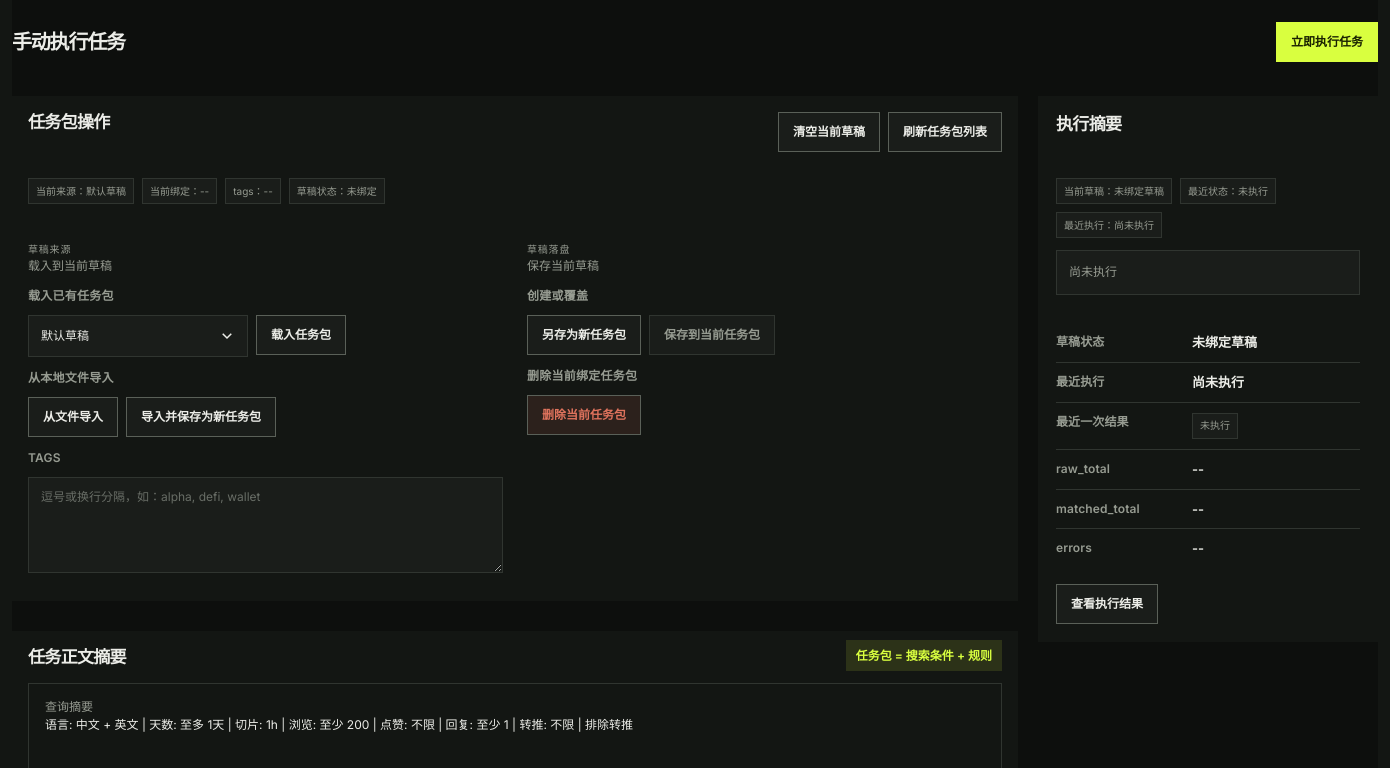
Test: ManualSearchPage › restores the blank draft when the default draft option is selected
Select "Alpha Watch" in the dropdown named "manual-pack-select" at (138, 336), box [28, 315, 248, 357]
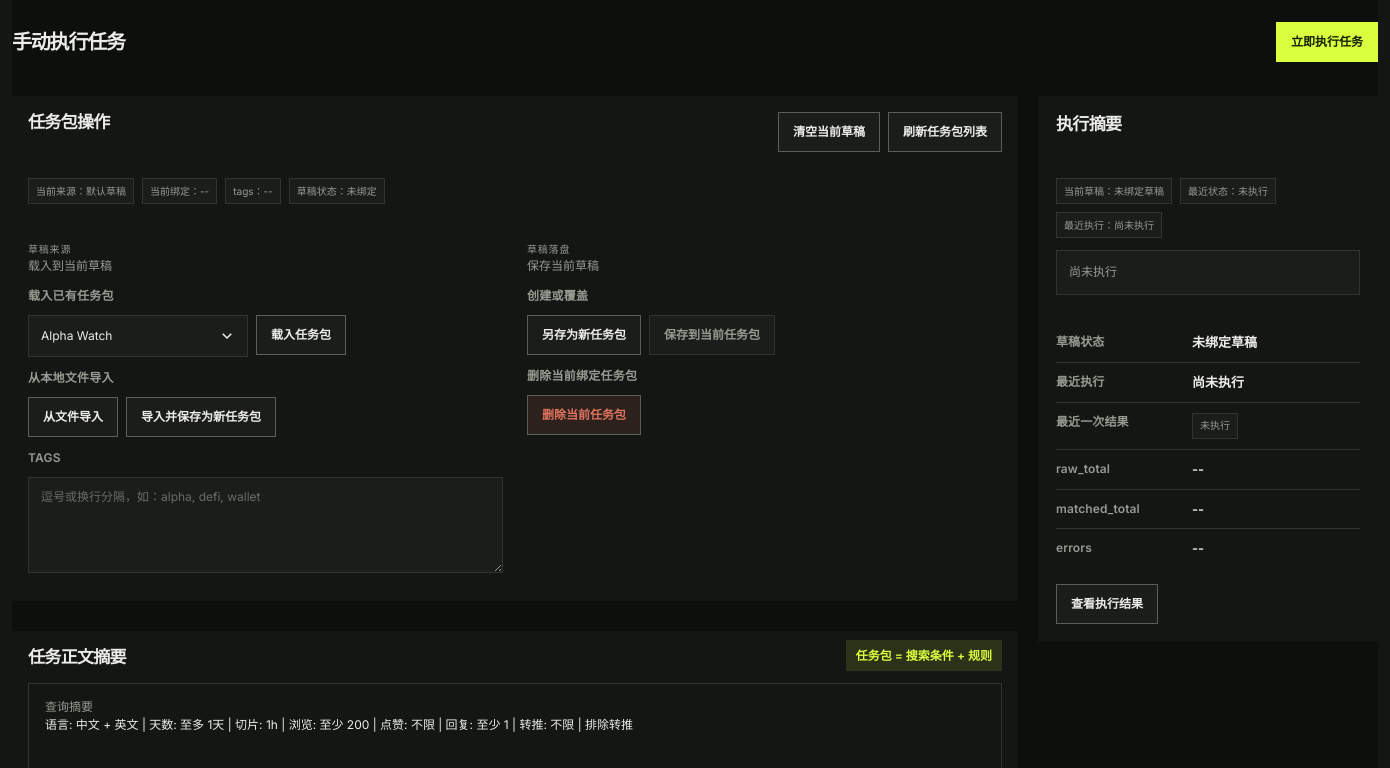
Click the button with test id "manual-load-pack" at (301, 335), box [256, 315, 346, 355]
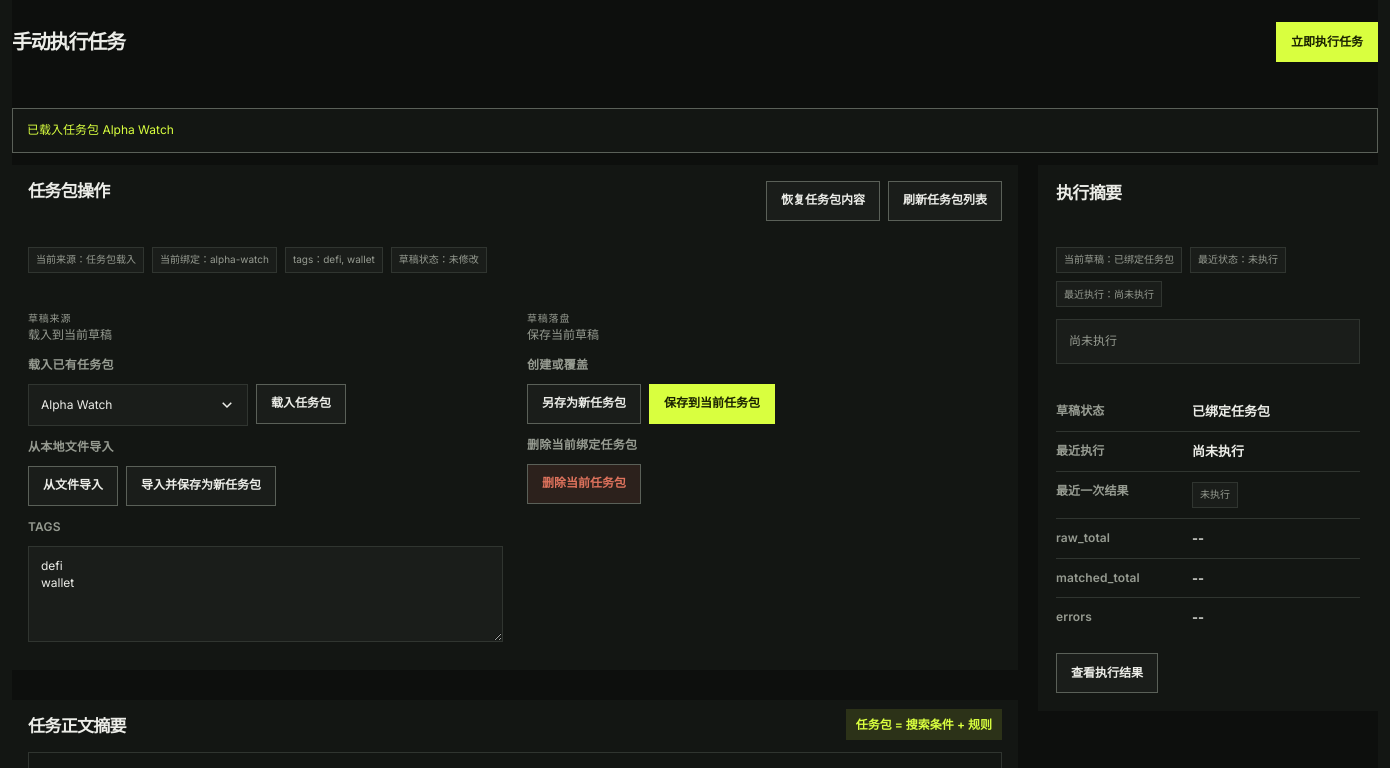
expect the text "当前绑定：alpha-watch" is shown: met, box [152, 247, 277, 273]
Select "默认草稿" in the dropdown named "manual-pack-select" at (138, 405), box [28, 384, 248, 426]
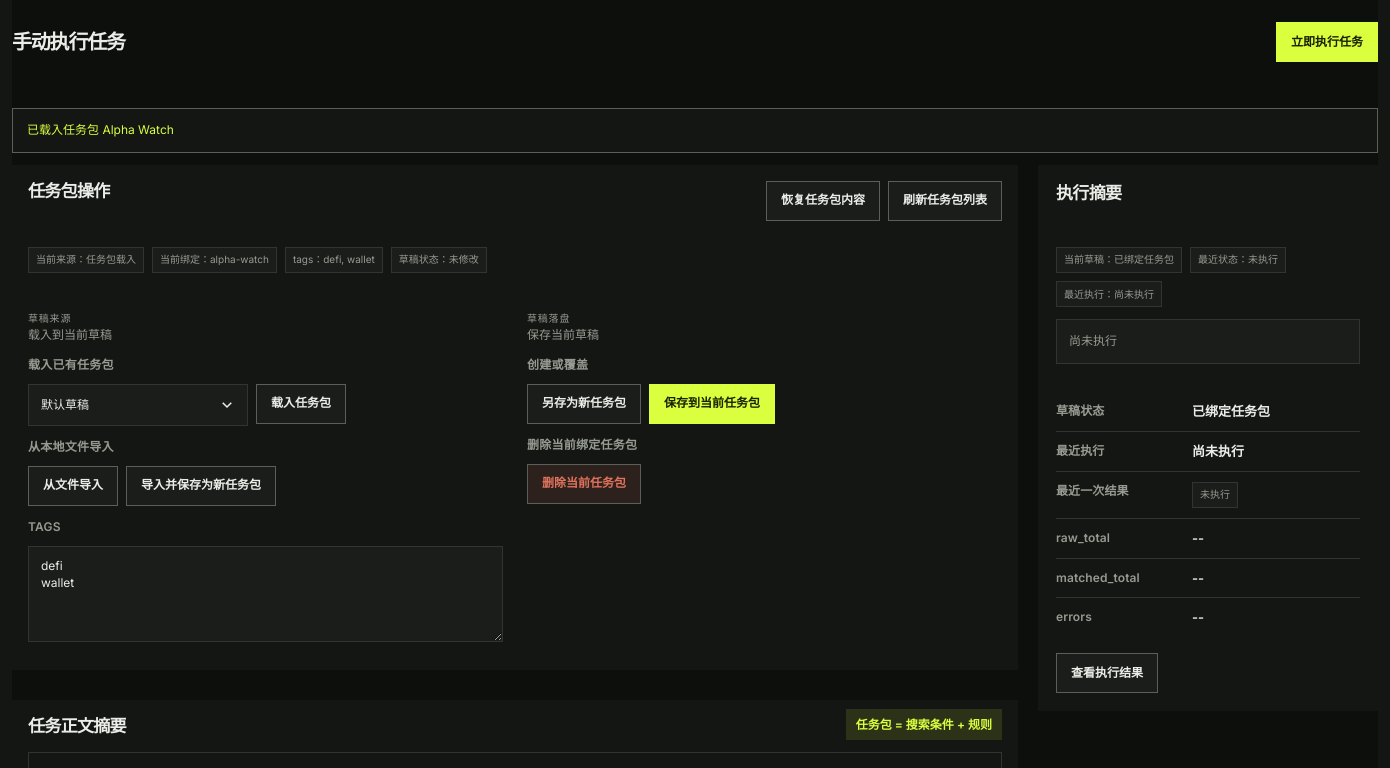
Click the button with test id "manual-load-pack" at (301, 404), box [256, 384, 346, 424]
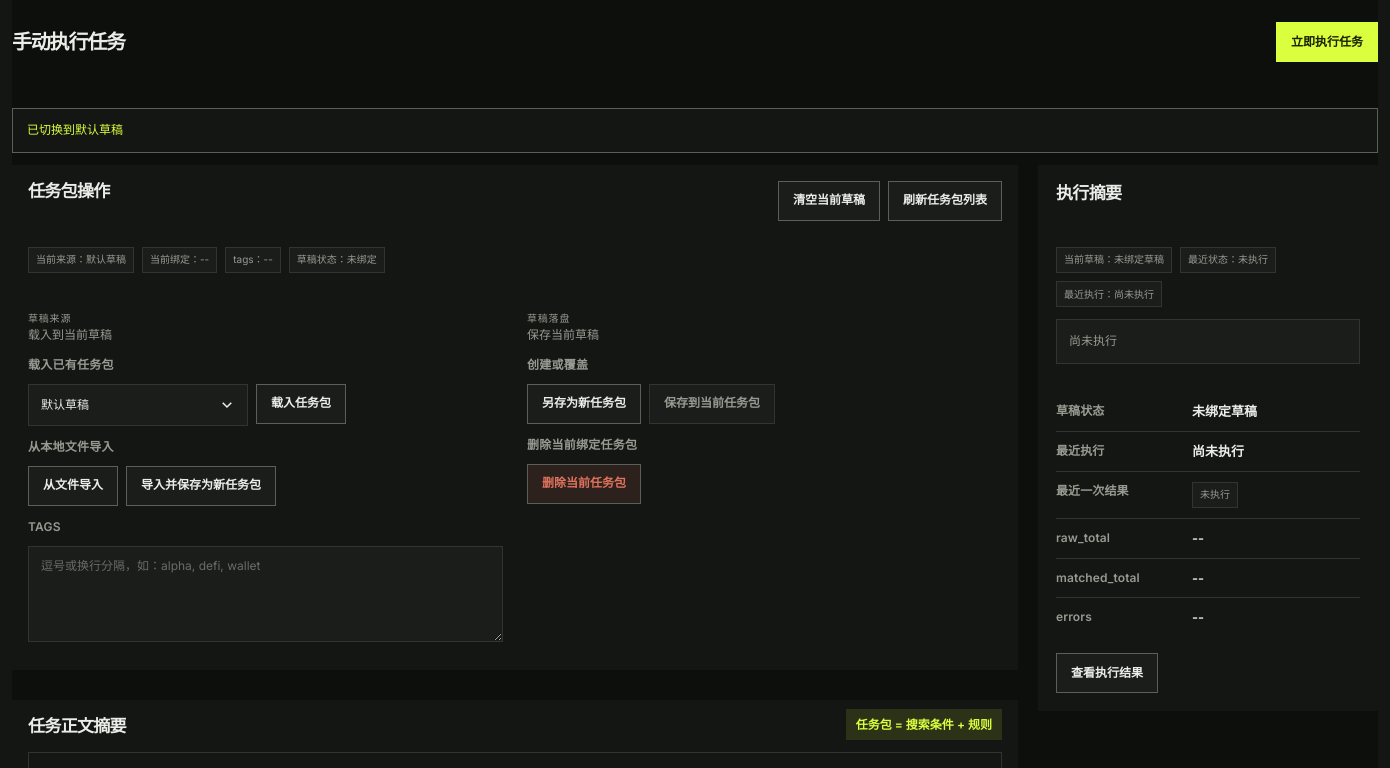
expect the text "当前来源：默认草稿" is shown: met, box [28, 247, 134, 273]
expect the text "当前绑定：--" is shown: met, box [142, 247, 217, 273]
expect the text "草稿状态：未绑定" is shown: met, box [289, 247, 385, 273]
